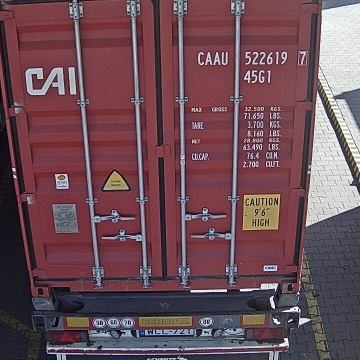serial_id: (198, 51, 307, 64)
